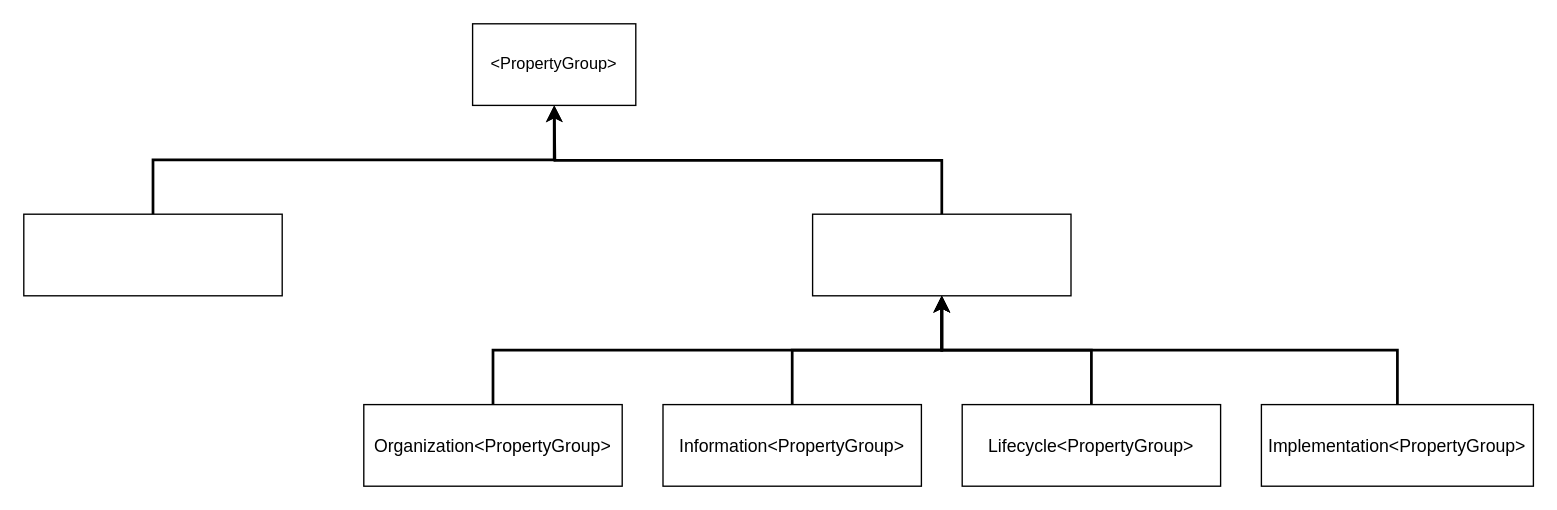
Some shapes in this 1557 by 510 pixel diagram are drawn without their labels. The box of each missing label's shape, as (x1, y1, x2, y2) in pixels:
Enterprise<PropertyGroup>: (811, 213, 1071, 296)
Jurisdiction<PropertyGroup>: (22, 213, 282, 296)
